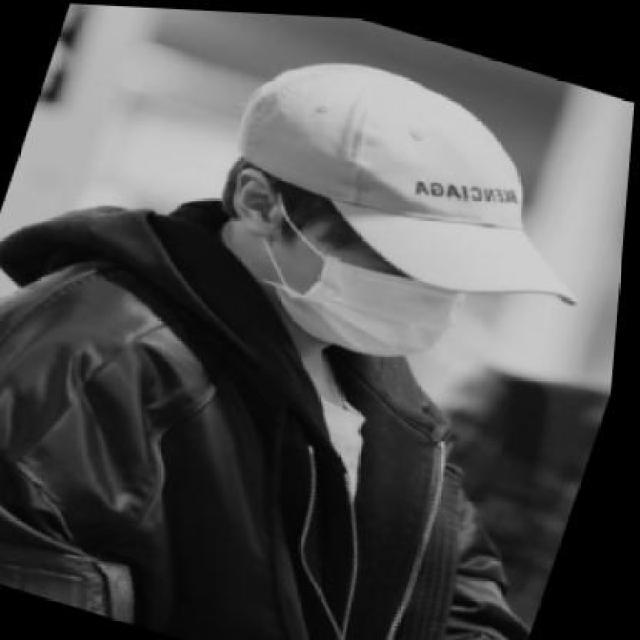hat: (196, 25, 638, 328)
